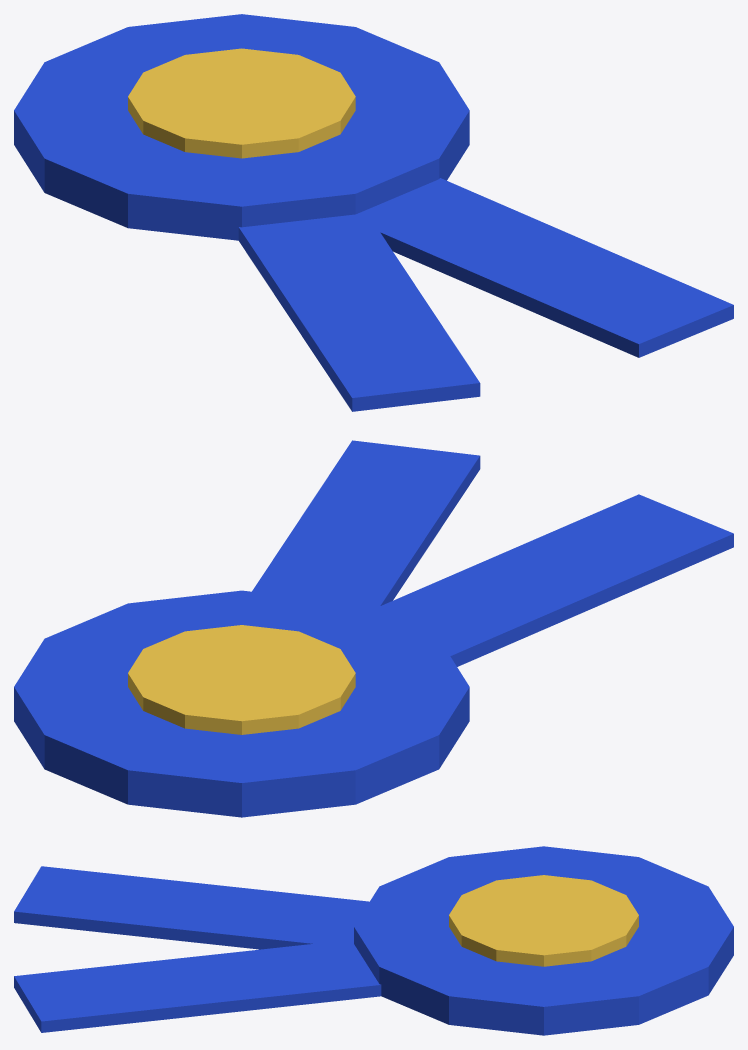
The model's file is prize_ribbon.glb.
The picture shows the model from 3 angles, top to bottom: view 1: azimuth 30°, elevation 25°; view 2: azimuth 150°, elevation 25°; view 3: azimuth 270°, elevation 25°; orthographic projection. The views are drawn at different scales.
Parts seen in each view (by area): view 1: rosette_ribbon_blue, tail_ribbon_blue, center_ribbon_gold; view 2: rosette_ribbon_blue, tail_ribbon_blue, center_ribbon_gold; view 3: rosette_ribbon_blue, tail_ribbon_blue, center_ribbon_gold.
Part boxes in pixels (x1,y1,x2,y2): rosette_ribbon_blue: [14, 14, 469, 240]; tail_ribbon_blue: [238, 178, 733, 411]; center_ribbon_gold: [128, 48, 355, 158]; rosette_ribbon_blue: [14, 590, 469, 817]; tail_ribbon_blue: [252, 440, 733, 666]; center_ribbon_gold: [128, 625, 355, 734]; rosette_ribbon_blue: [354, 846, 733, 1035]; tail_ribbon_blue: [14, 866, 381, 1032]; center_ribbon_gold: [449, 875, 638, 966].
Bounding box in the file's own units: 0.12 × 0.014 × 0.2273.
